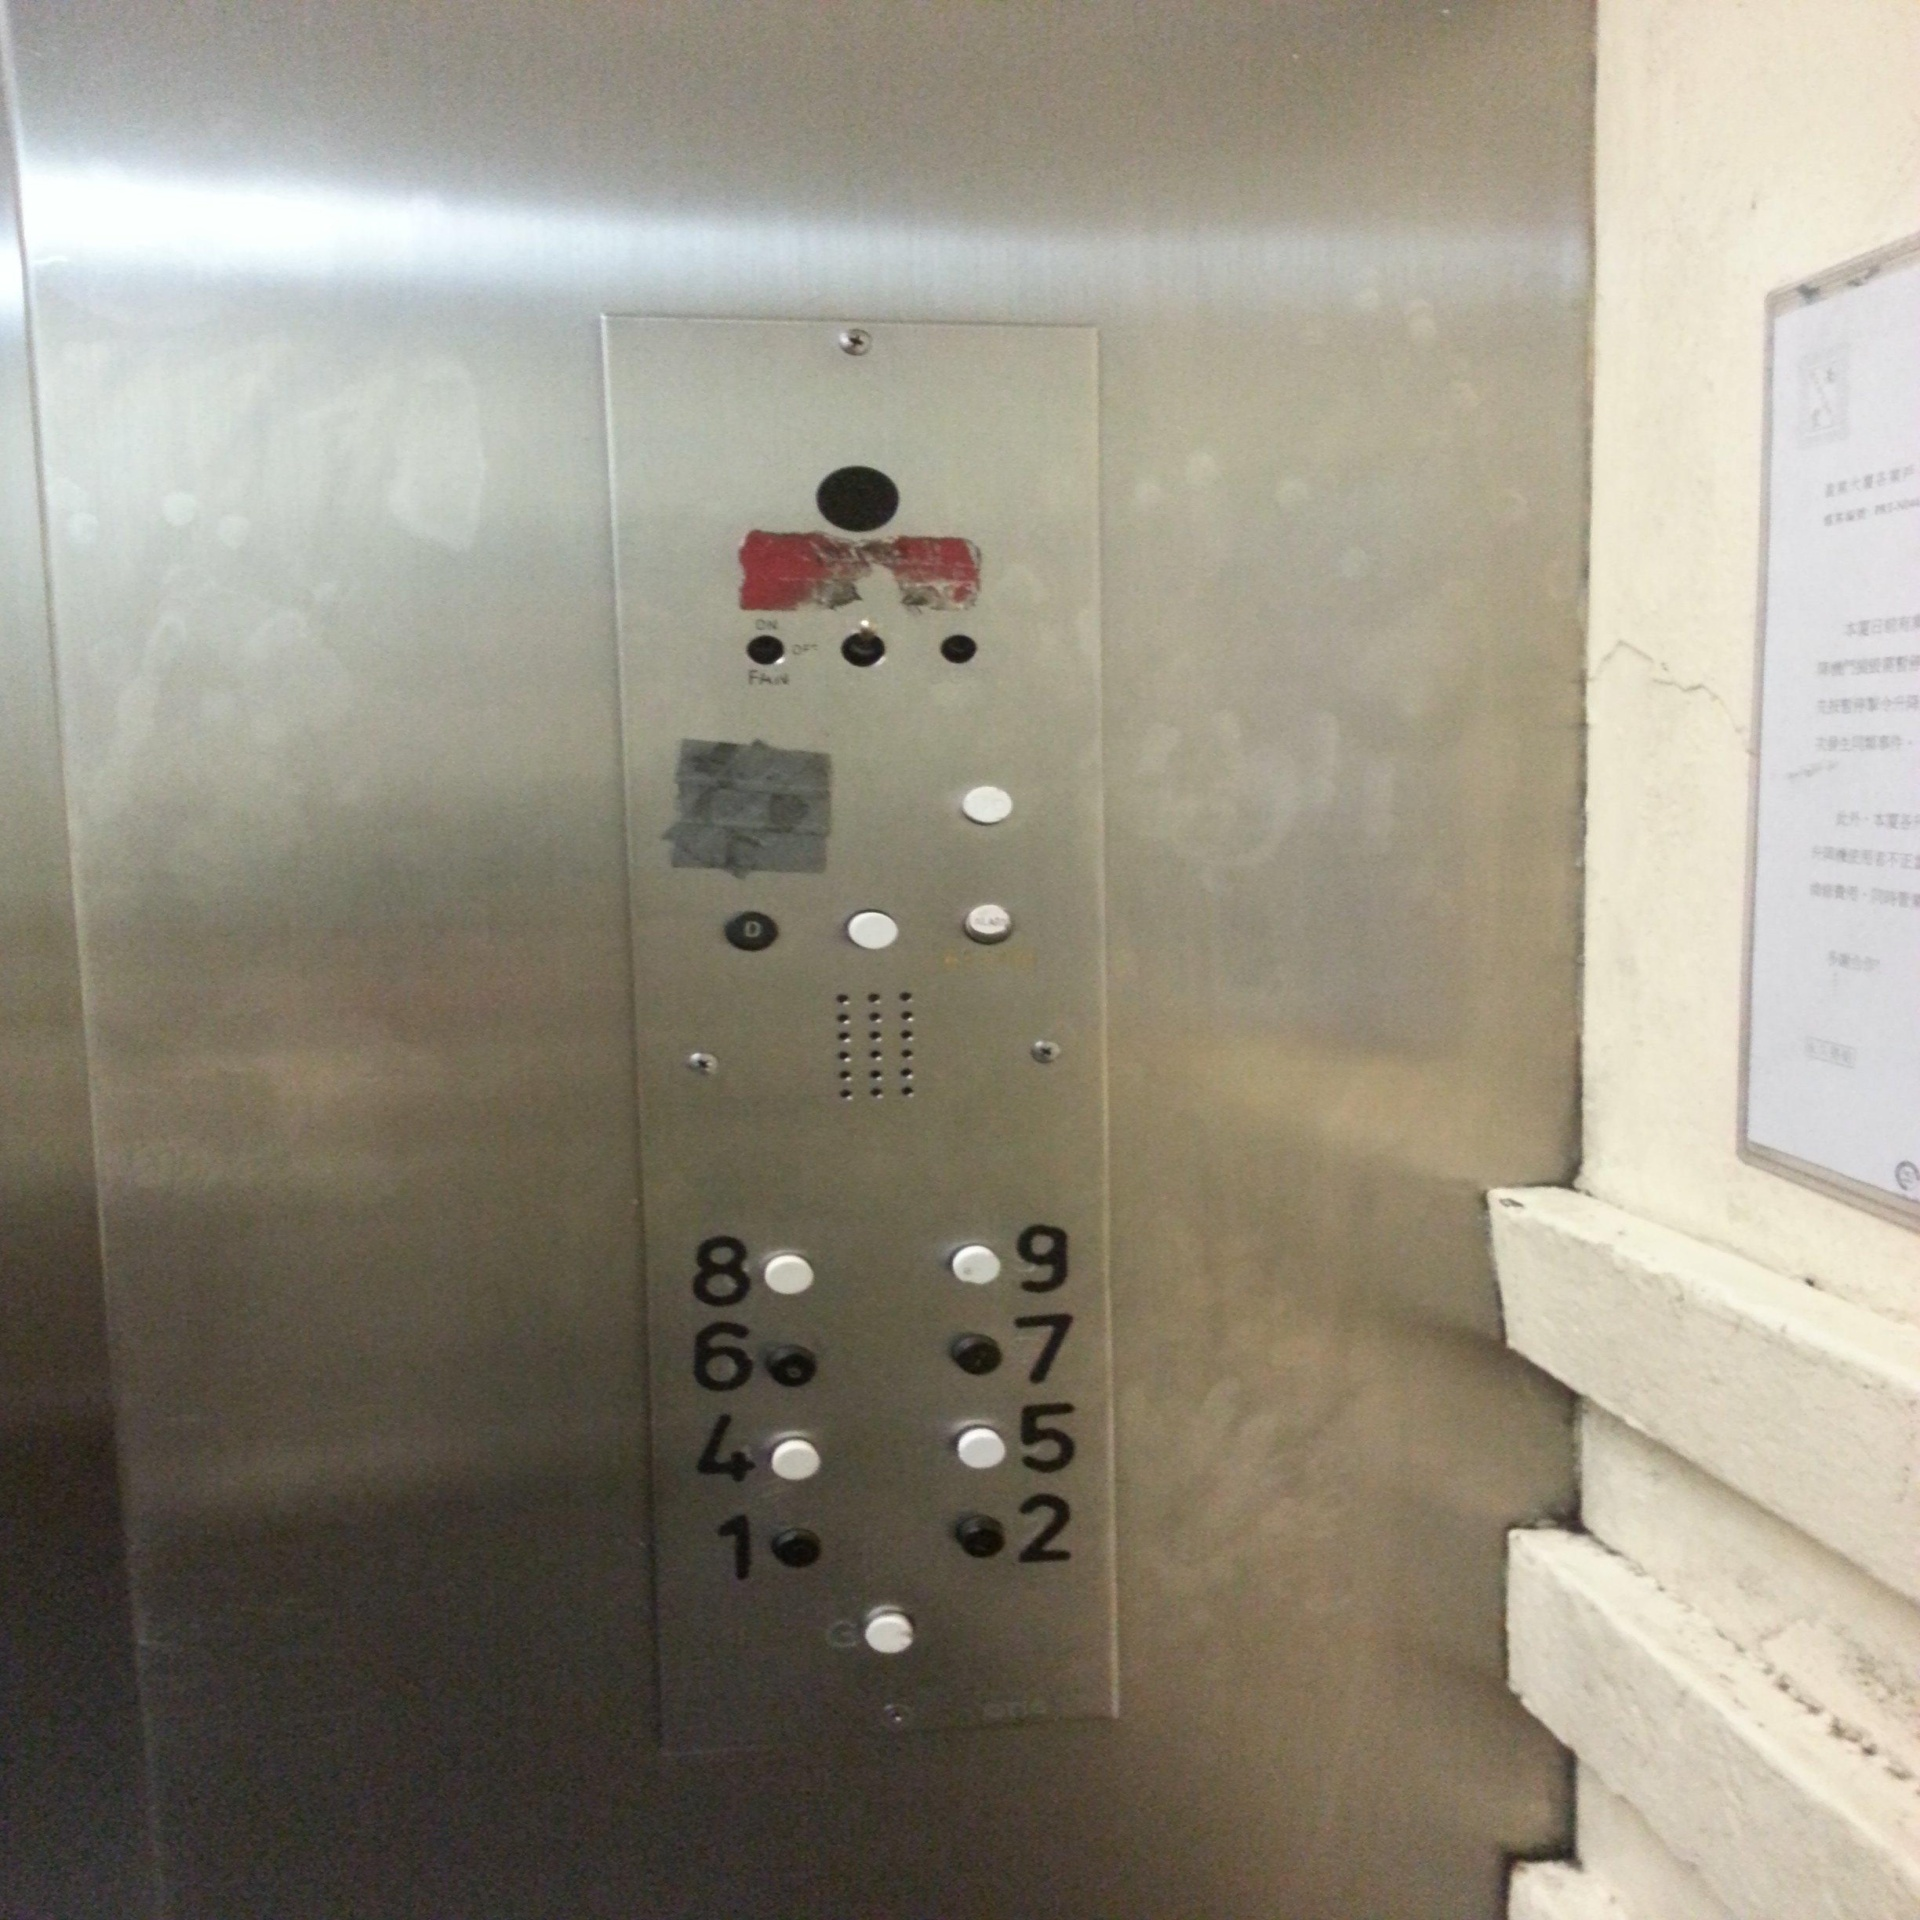D: (724, 911, 781, 955)
blur: (761, 1342, 816, 1391), (962, 904, 1013, 942), (745, 631, 788, 666), (937, 633, 978, 665)
empty: (812, 462, 905, 535), (840, 902, 902, 960), (753, 1248, 819, 1301), (863, 1604, 918, 1655), (770, 1431, 821, 1484), (772, 1523, 823, 1574), (962, 781, 1013, 825), (956, 1516, 1006, 1558), (955, 1333, 1002, 1375), (956, 1428, 1006, 1468), (951, 1245, 999, 1285)
switch: (839, 617, 886, 666)
